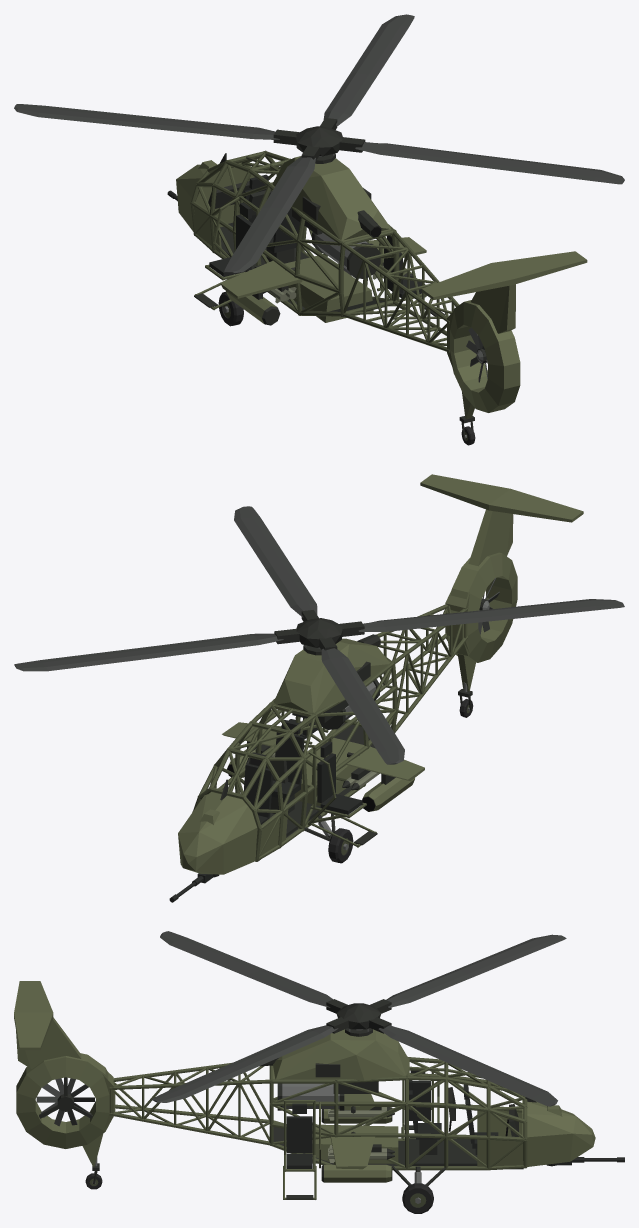
The model's file is helicopter.glb.
3 renders of one model, top to bottom at view 1: azimuth 30°, elevation 25°; view 2: azimuth 150°, elevation 25°; view 3: azimuth 270°, elevation 25°, orthographic. The views are drawn at different scales.
Visible parts, largest first — view 1: Body, Rotor; view 2: Body, Rotor; view 3: Body, Rotor, TailRotor.
Part boxes in pixels (left/top/right/bottom): Body: left=167, top=150, right=587, bottom=445; Rotor: left=14, top=14, right=624, bottom=273; Body: left=169, top=474, right=583, bottom=902; Rotor: left=14, top=506, right=624, bottom=764; Body: left=14, top=981, right=624, bottom=1213; Rotor: left=151, top=931, right=566, bottom=1106; TailRotor: left=36, top=1078, right=94, bottom=1126.
Size of the model in its own units: 7.38 by 3.61 by 10.84.
